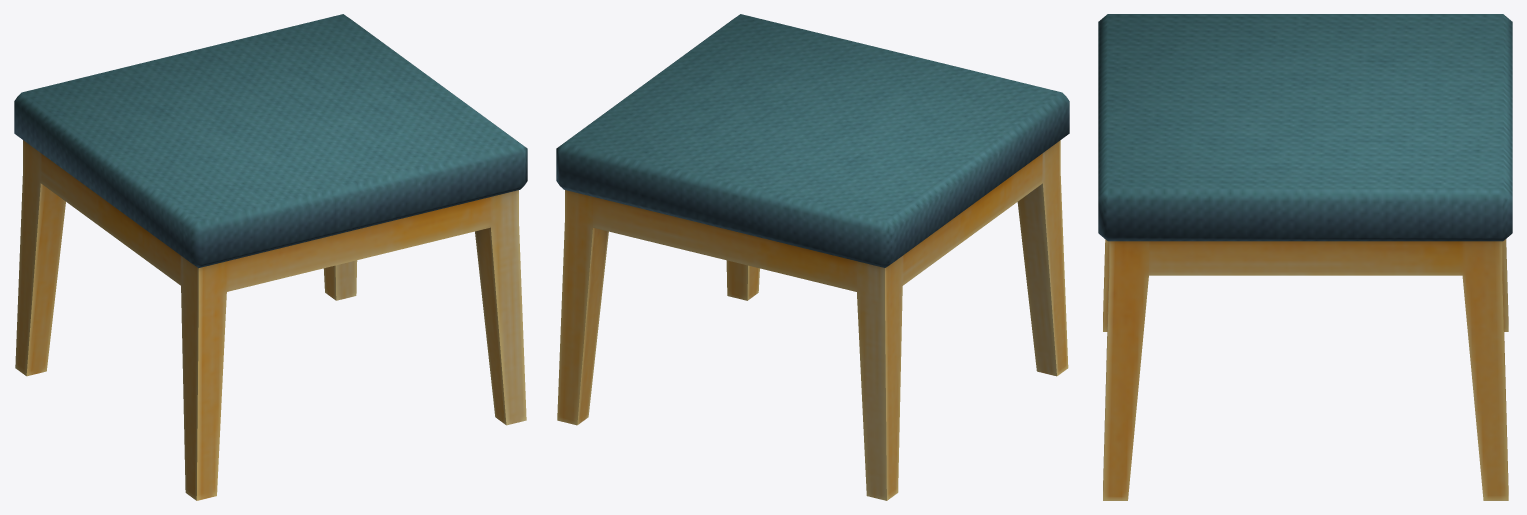
The model's file is sb_obj_ModernCity067_diningchair_b.fbx.
The picture shows the model from 3 angles, left to right: view 1: azimuth 30°, elevation 25°; view 2: azimuth 150°, elevation 25°; view 3: azimuth 270°, elevation 25°; orthographic projection. The views are drawn at different scales.
Visible parts, largest first — view 1: sb_obj_ModernCity067_diningchair_b; view 2: sb_obj_ModernCity067_diningchair_b; view 3: sb_obj_ModernCity067_diningchair_b.
Boxes of the visible parts, bbox=[...] form: sb_obj_ModernCity067_diningchair_b: bbox=[14, 14, 527, 500]; sb_obj_ModernCity067_diningchair_b: bbox=[556, 14, 1069, 500]; sb_obj_ModernCity067_diningchair_b: bbox=[1098, 14, 1512, 500].
Bounding box in the file's own units: 0.51 × 0.4005 × 0.486.
1 material, 1 textured.
